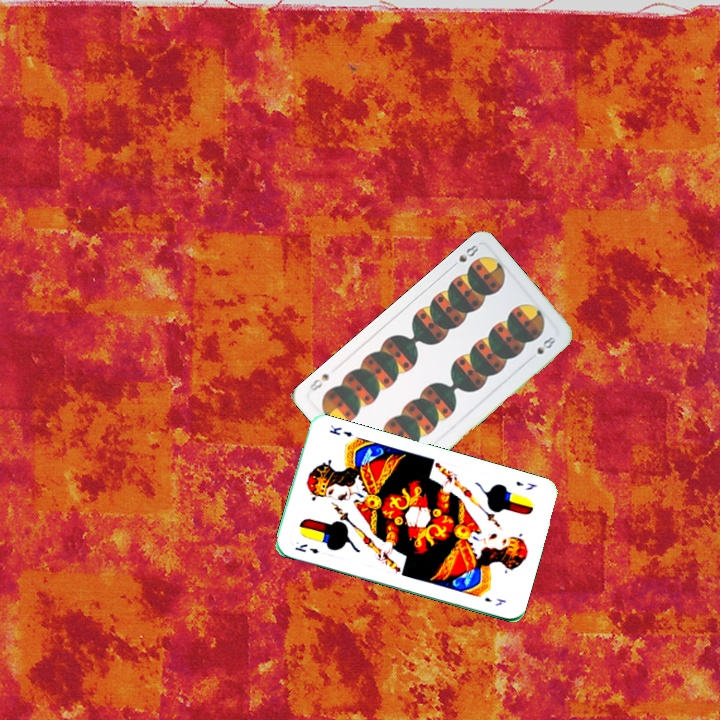EK: (291, 540, 321, 556), (512, 477, 539, 493)
S8: (446, 241, 481, 271)
